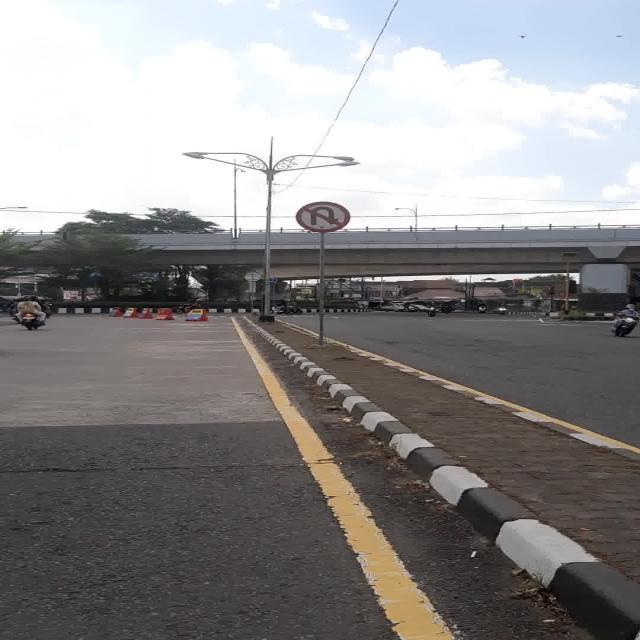Dilarang Putar Balik: (296, 201, 350, 232)
